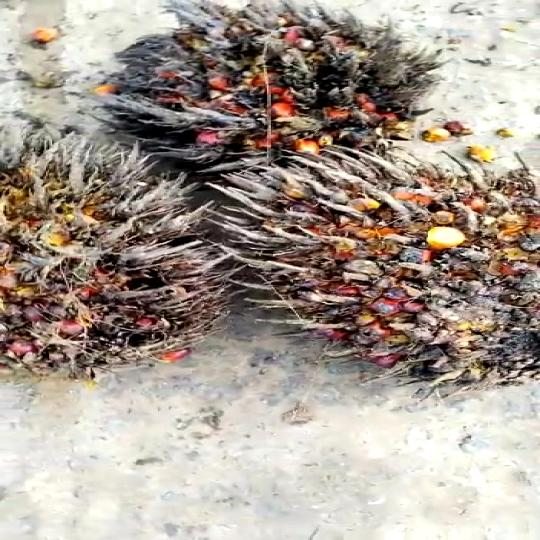terlalu masak: (217, 136, 540, 397), (86, 0, 444, 172), (0, 132, 223, 366)
